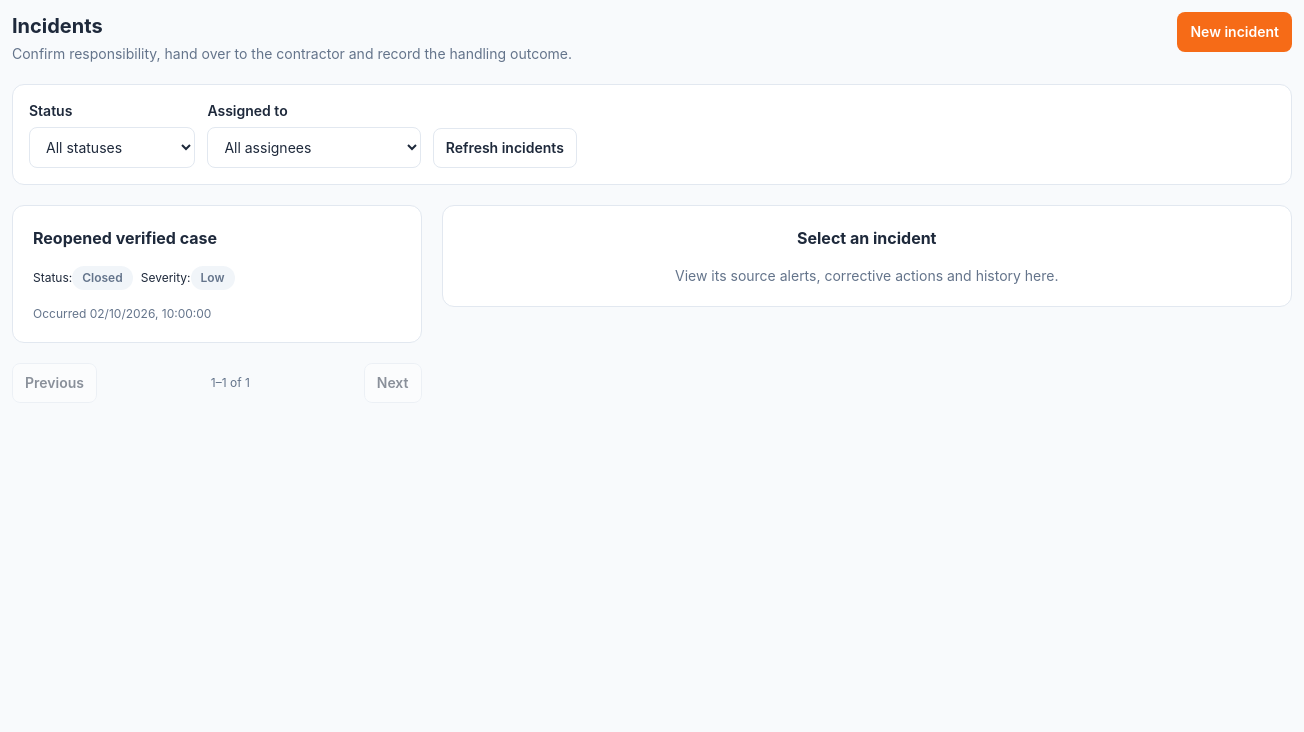
Test: Incident reflects server closure true without a separate close step
Step 1. Click the button "Reopened verified case" → (217, 274), box [12, 205, 422, 343]
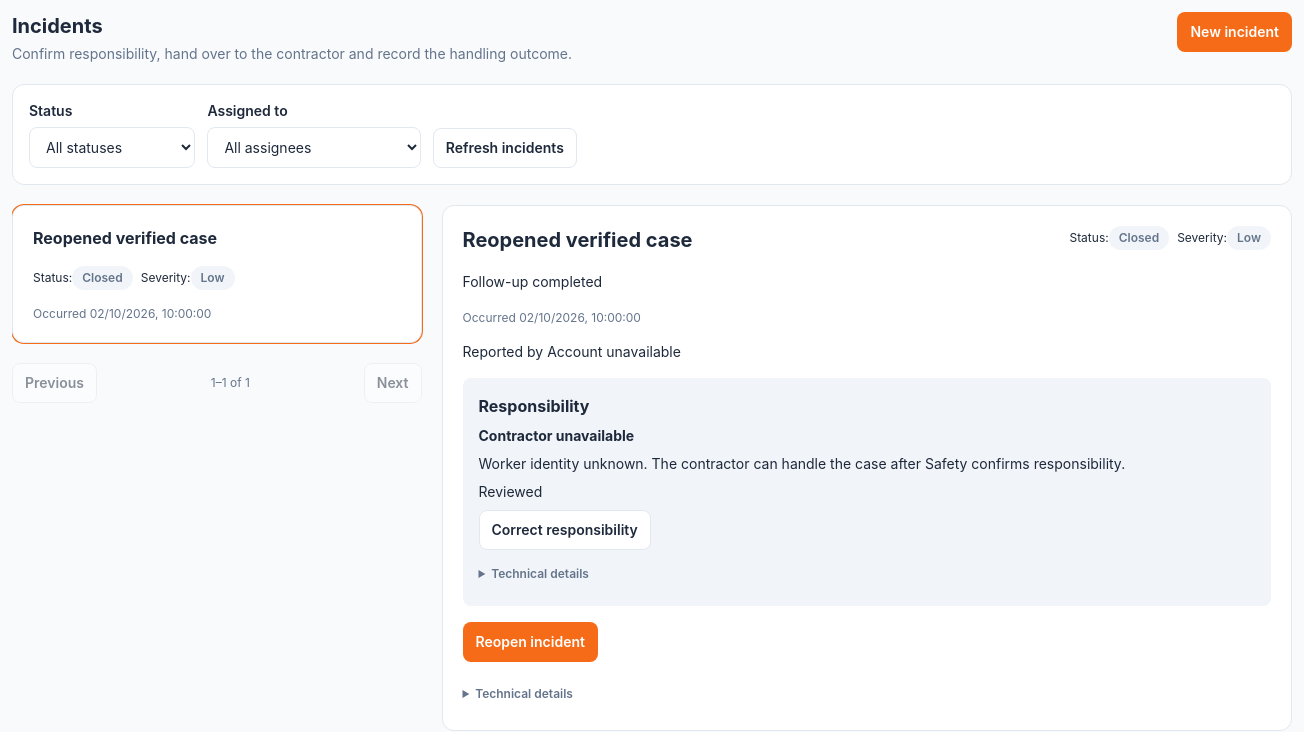
Now the text "Follow-up completed" is shown, box [462, 273, 602, 290]
Now the button "Reopen incident" is shown, box [462, 622, 598, 662]
